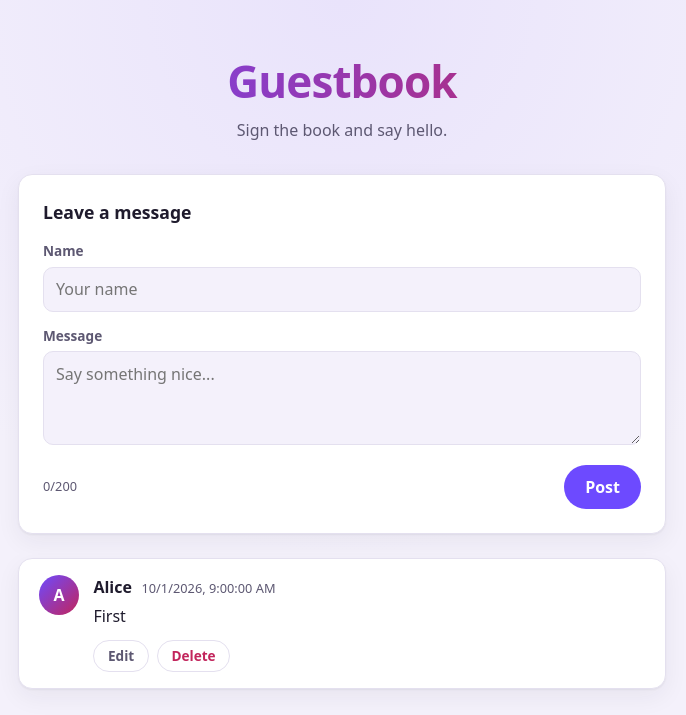
Scenario: App › shows the server error message when an action fails
Expected: the text "First" is shown, [93,605,126,627]
Click the button "Delete" at (194, 656), box [157,640,230,672]
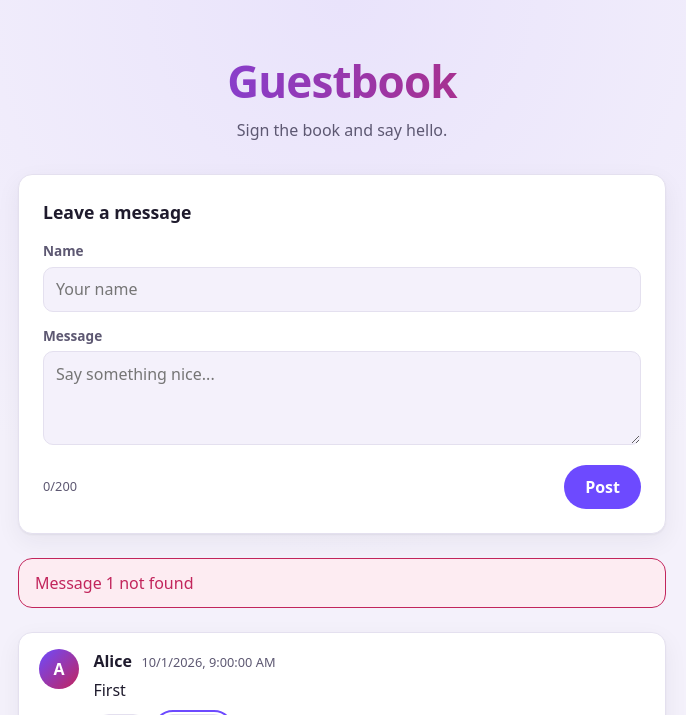
Expected: the text "First" is shown, [93,679,126,701]
Result: the message reads "Message 1 not found" at [35,572,194,594]
